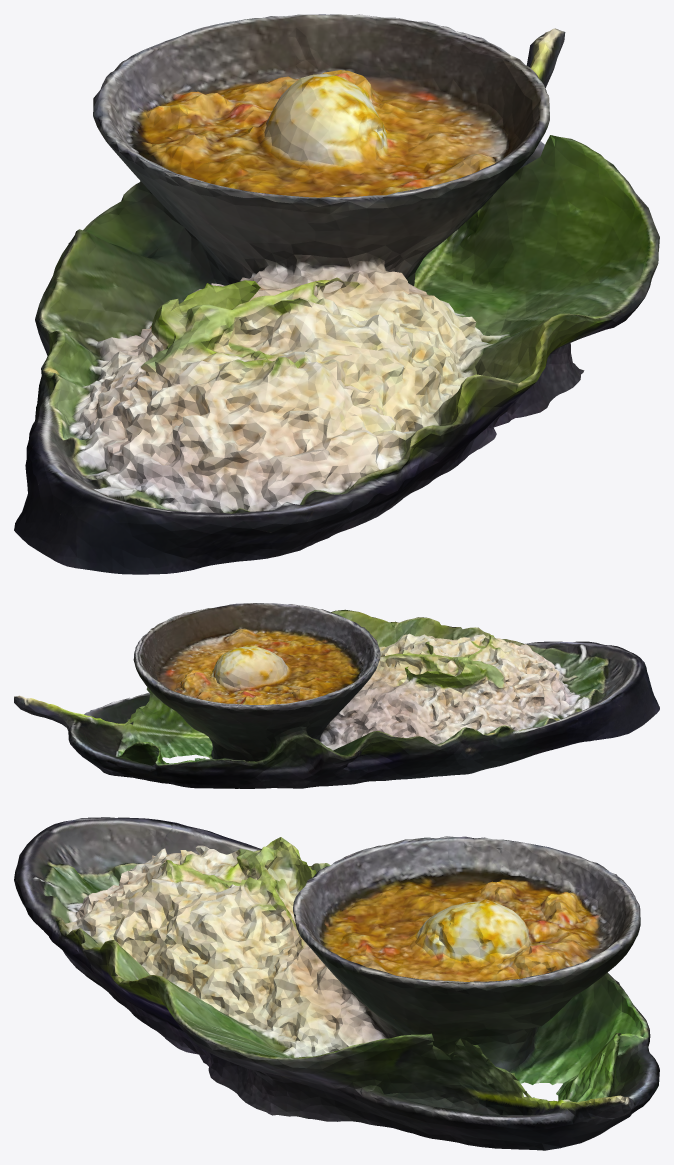
File: white-rice-ayamase.glb
The picture shows the model from 3 angles, top to bottom: view 1: azimuth 30°, elevation 25°; view 2: azimuth 150°, elevation 25°; view 3: azimuth 270°, elevation 25°; orthographic projection. The views are drawn at different scales.
Visible parts, largest first — view 1: Mesh_0.002; view 2: Mesh_0.002; view 3: Mesh_0.002.
Boxes of the visible parts, x1=… form: Mesh_0.002: x1=14, y1=14, x2=659, y2=574; Mesh_0.002: x1=14, y1=603, x2=659, y2=788; Mesh_0.002: x1=14, y1=817, x2=659, y2=1150.
Size of the model in its own units: 0.3259 by 0.081 by 0.2815.
1 material, 1 textured.
